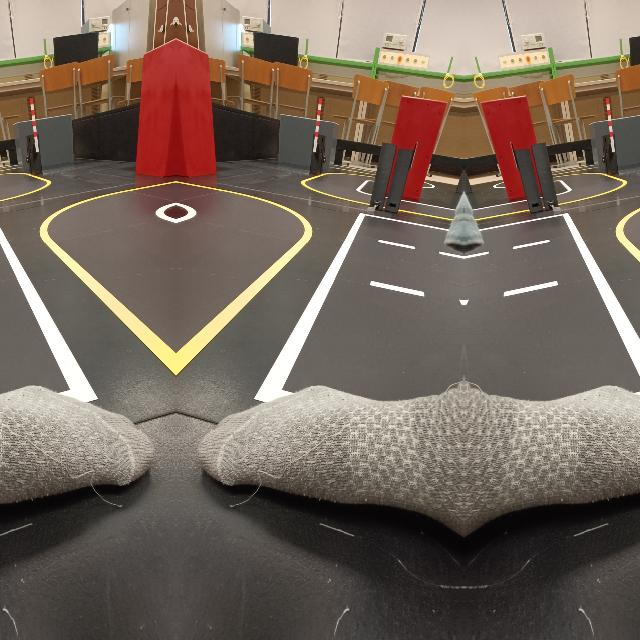obstacle: (200, 384, 464, 538), (464, 384, 640, 538), (0, 384, 150, 538)
